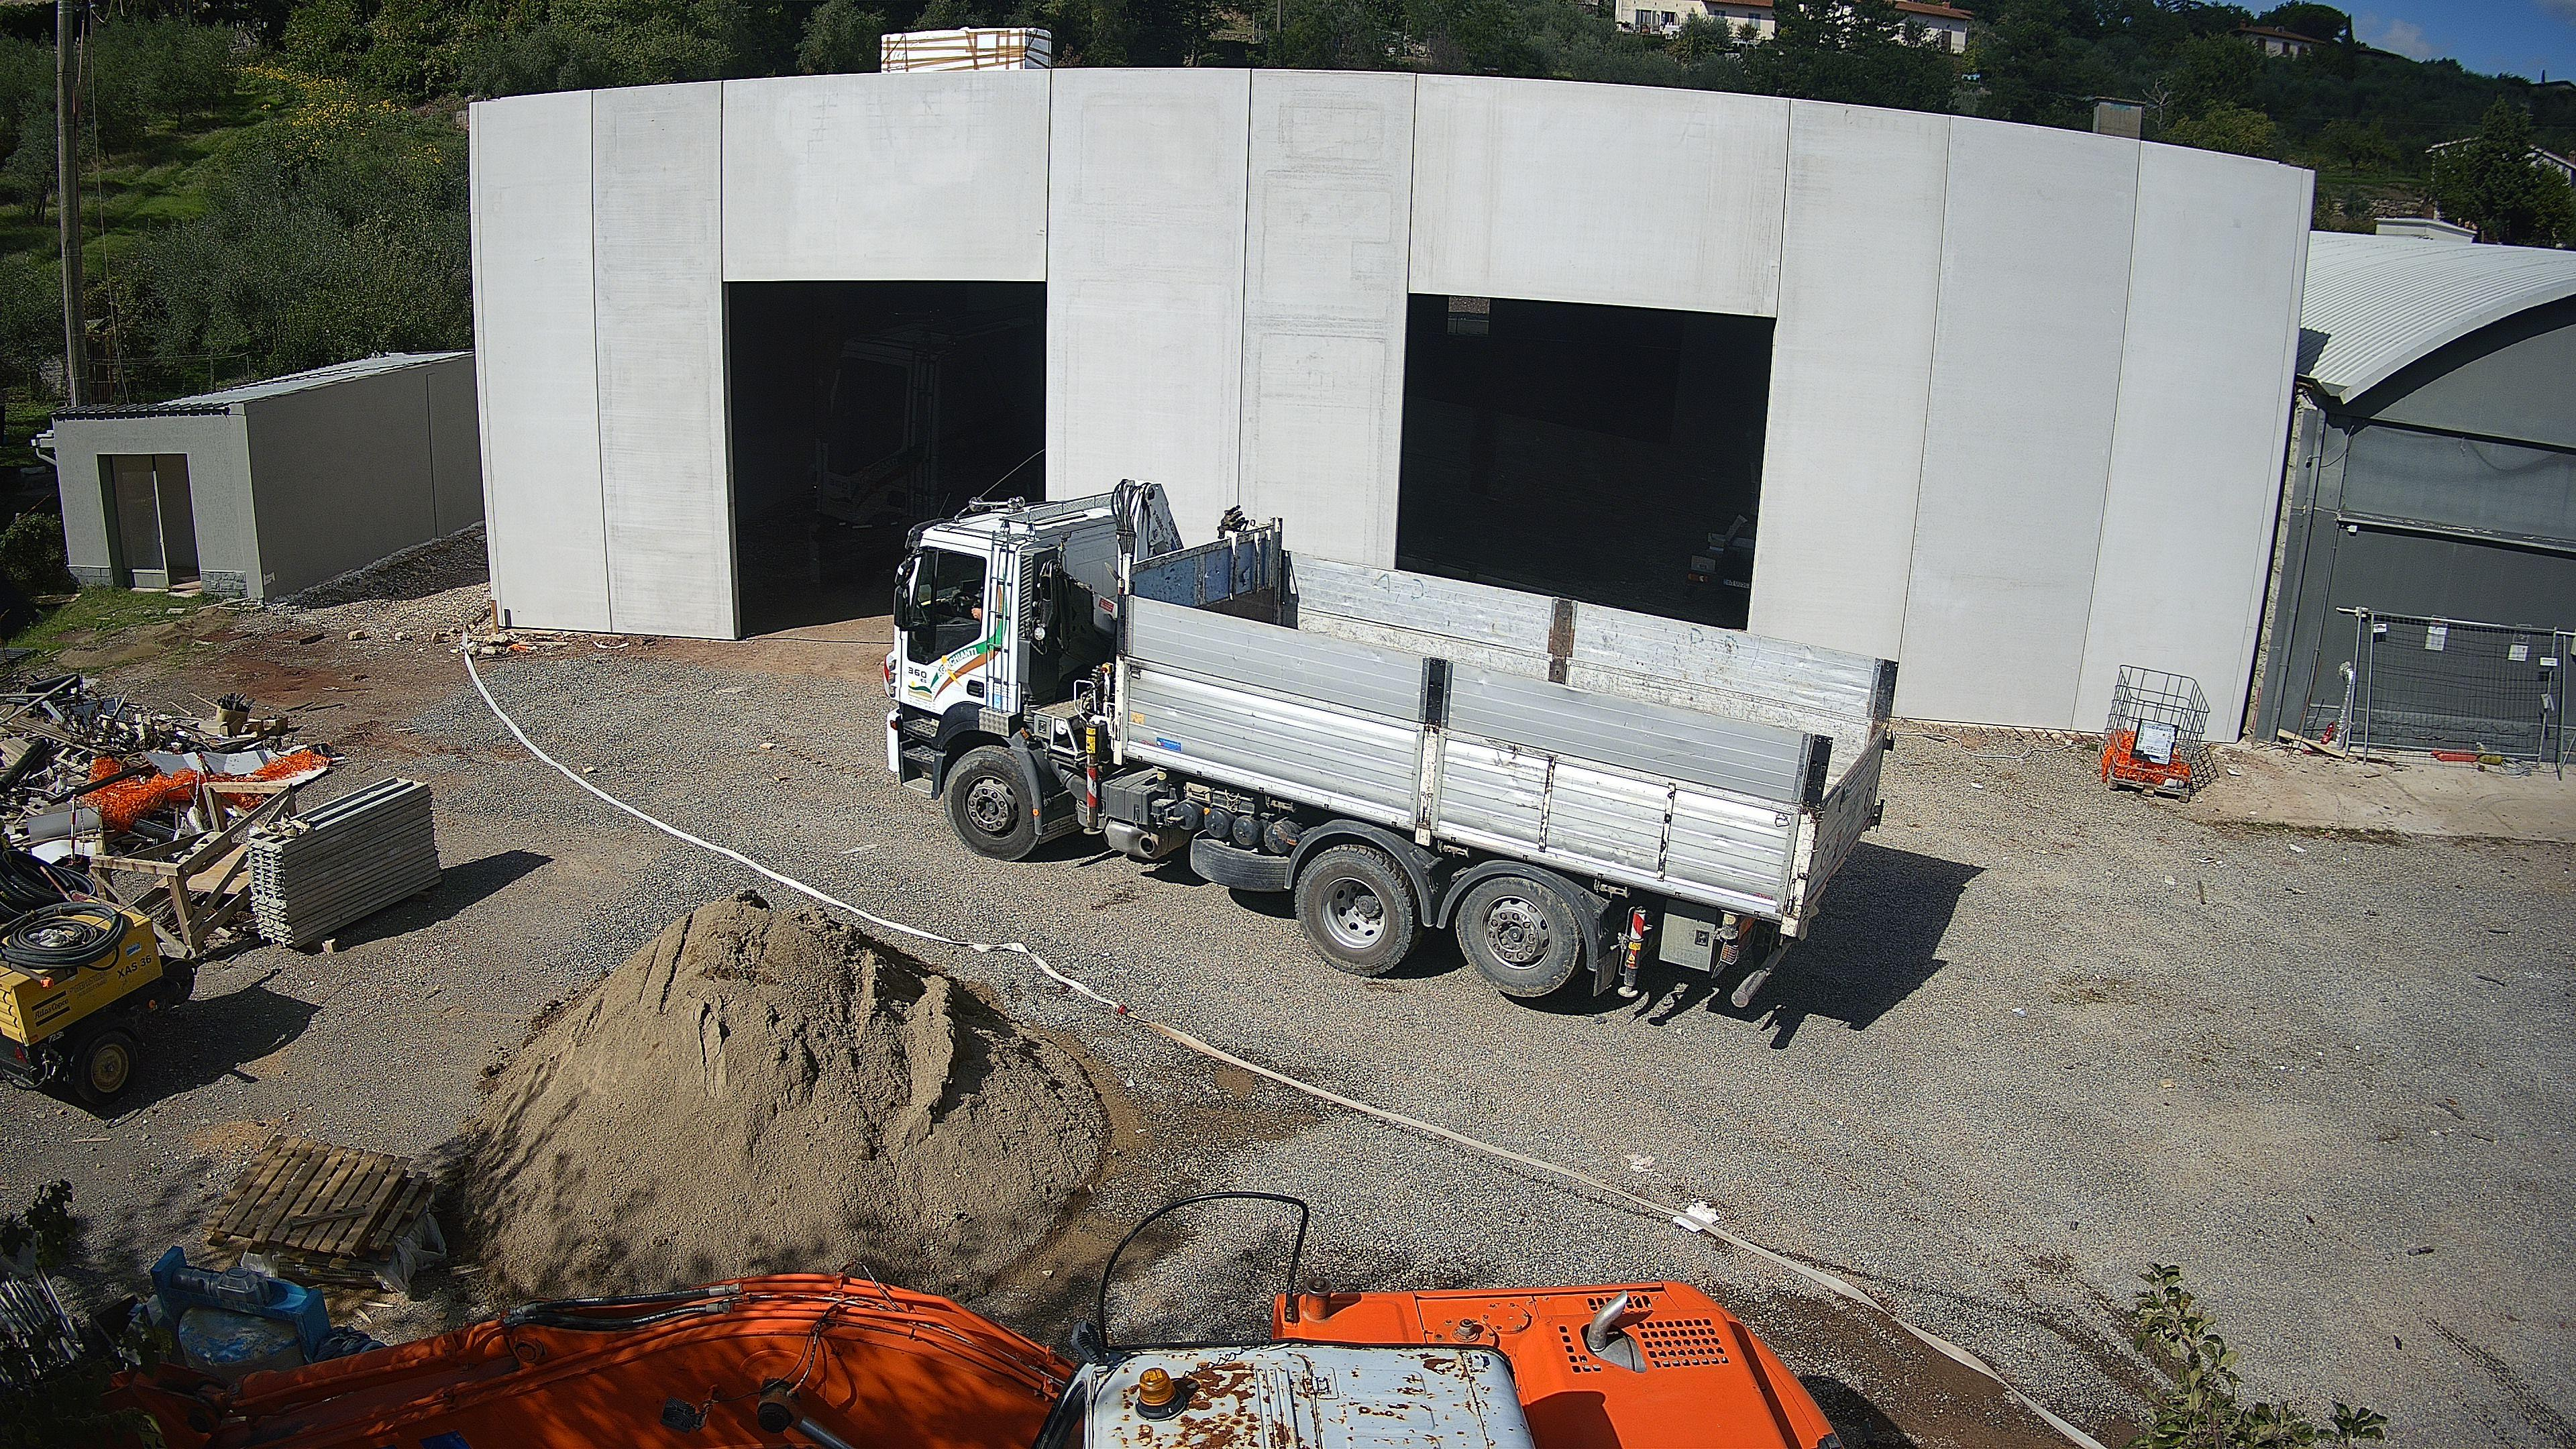Trucks: (879, 474, 1900, 1008)
excavator: (0, 1191, 1835, 1449)
